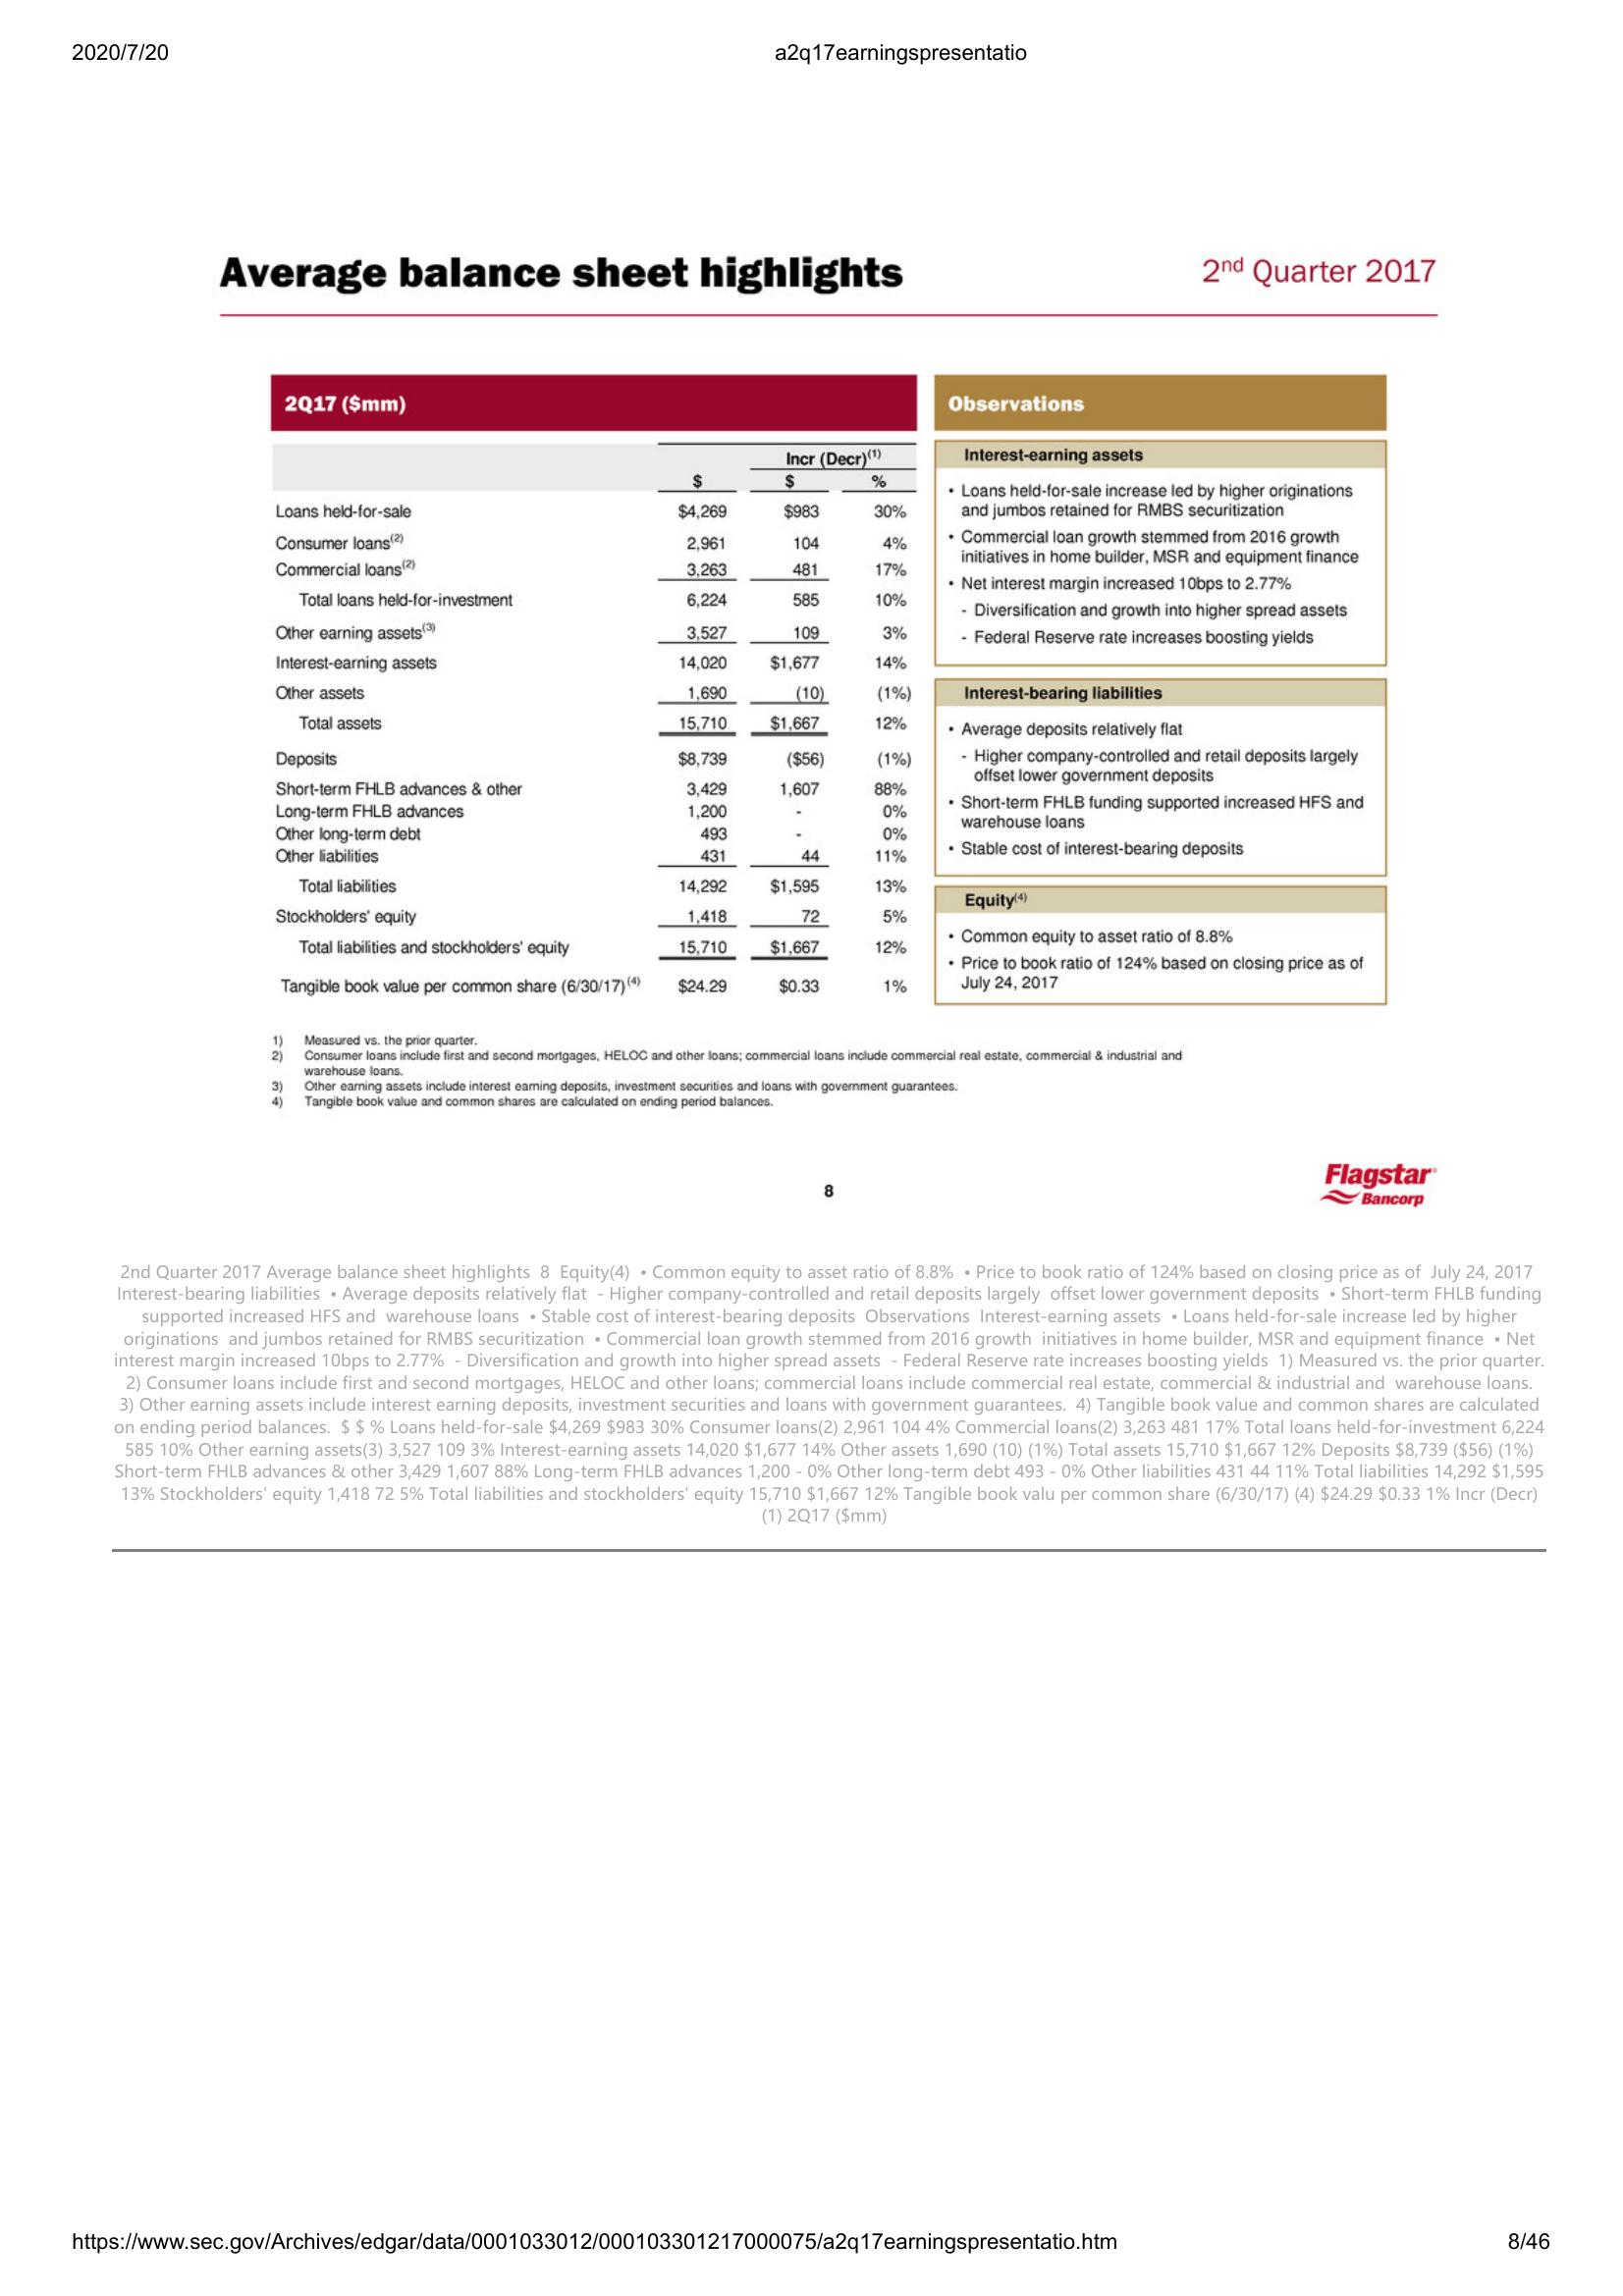table: (269, 370, 927, 1008)
